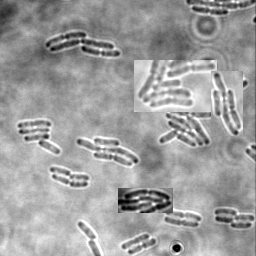Dividing: (52, 175, 89, 189), (128, 238, 157, 255), (166, 209, 202, 222), (164, 217, 200, 228), (192, 7, 229, 17)
Microcolony: (134, 60, 217, 112), (211, 71, 243, 136), (76, 137, 139, 168), (45, 32, 121, 57), (18, 120, 61, 155), (118, 188, 173, 213), (214, 208, 255, 229)
Rod: (121, 233, 150, 251), (78, 222, 99, 240), (50, 167, 72, 177), (69, 174, 90, 183)
